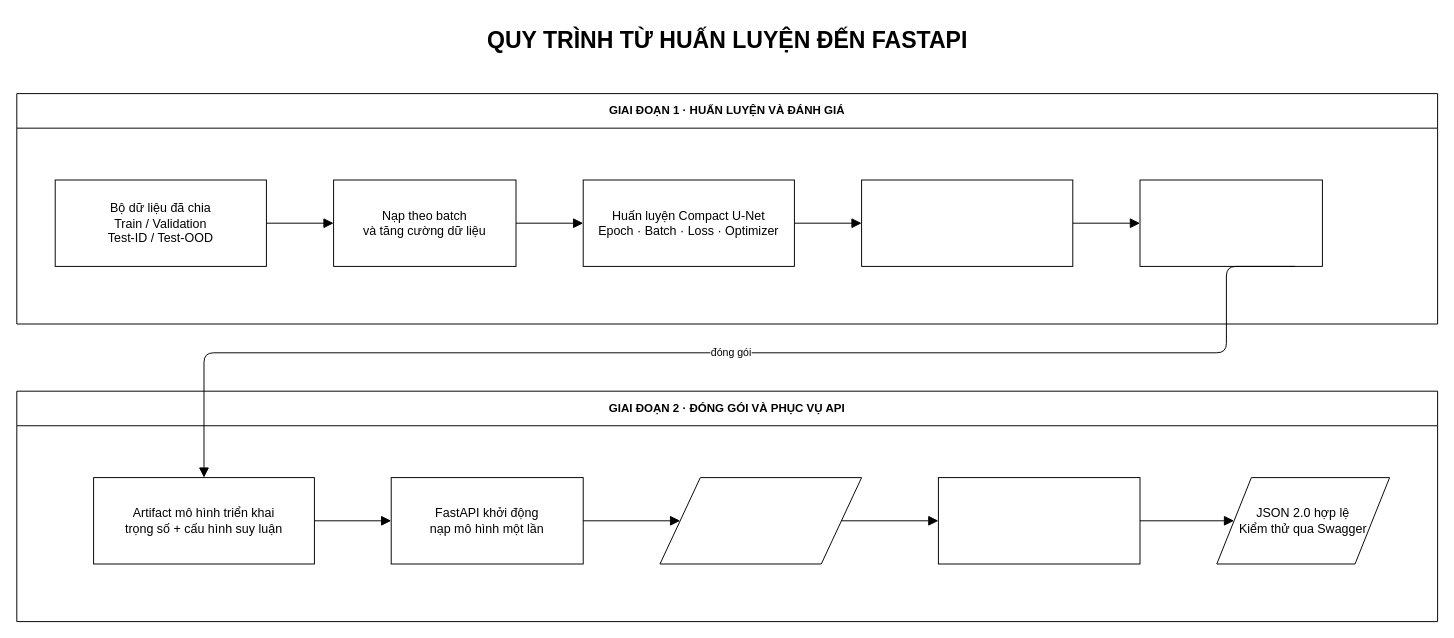
Image size: 1454x638. Some labels were removed from this diagram. The shapes that lost their labels are listed below. From the top down, each one's centre as x and y in pixels, then its label:
At point 967,222: "Validation sau mỗi epoch Early stopping giữ trọng số tốt nhất".
At point 1230,222: "Đánh giá độc lập Test-ID và Test-OOD".
At point 760,520: "Nhận tệp Excel POST /api/eform/extract".
At point 1038,520: "Suy luận + hậu xử lý vùng bảng · phân cấp · JSON".
